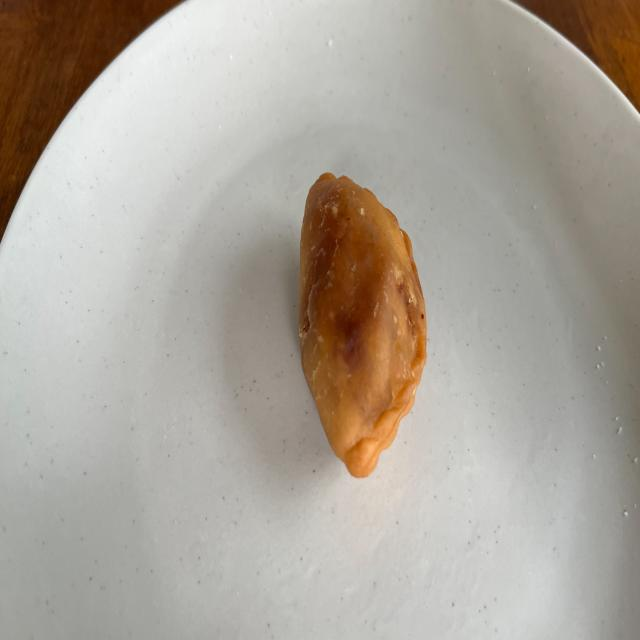karipap: (299, 173, 426, 478)
